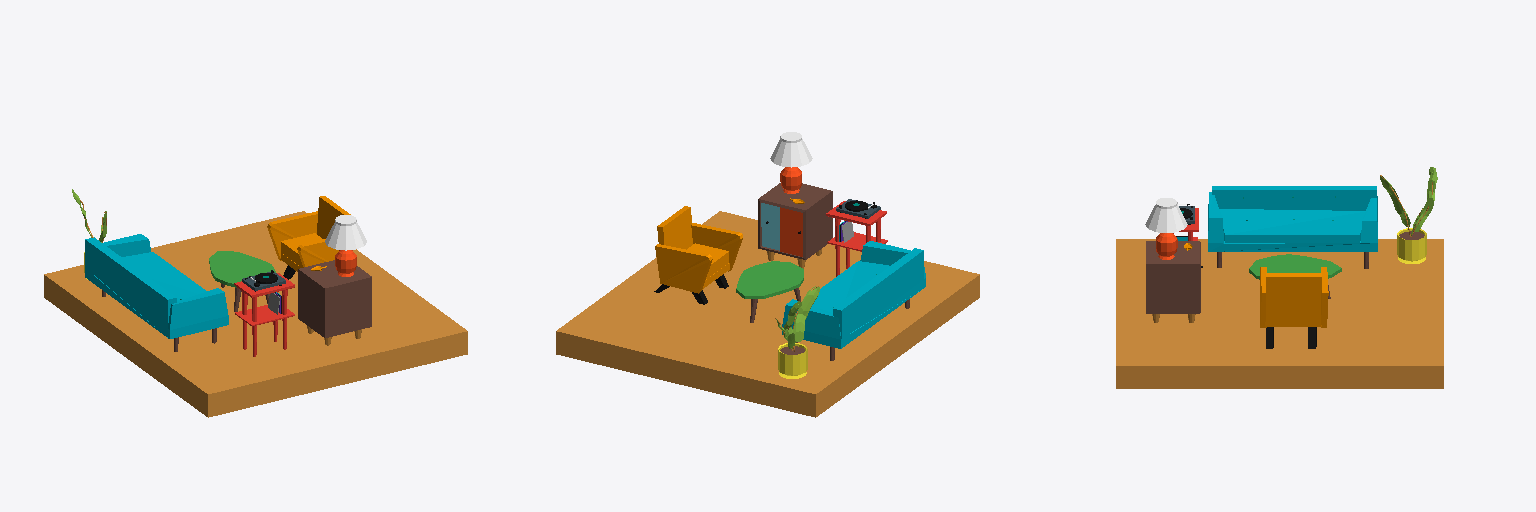
3 views of the same model, side by side, from view 1: azimuth 30°, elevation 25°; view 2: azimuth 150°, elevation 25°; view 3: azimuth 270°, elevation 25° (orthographic).
Visible parts, largest first — view 1: group[number redacted], group[number redacted], group[number redacted], group[number redacted], group[number redacted], group[number redacted], group[number redacted], group[number redacted], group[number redacted], group[number redacted]; view 2: group[number redacted], group[number redacted], group[number redacted], group[number redacted], group[number redacted], group[number redacted], group[number redacted], group[number redacted], group[number redacted], group[number redacted], group[number redacted]; view 3: group[number redacted], group[number redacted], group[number redacted], group[number redacted], group[number redacted], group[number redacted].
Part boxes in pixels (x1,y1,x2,y2): group[number redacted]: (44,211,467,417); group[number redacted]: (85,234,228,351); group[number redacted]: (298,215,371,345); group[number redacted]: (234,273,294,356); group[number redacted]: (209,251,275,287); group[number redacted]: (267,211,317,260); group[number redacted]: (297,239,338,266); group[number redacted]: (317,196,350,238); group[number redacted]: (242,270,285,291); group[number redacted]: (281,233,321,267); group[number redacted]: (556,211,979,417); group[number redacted]: (782,241,925,360); group[number redacted]: (758,132,832,268); group[number redacted]: (655,244,712,293); group[number redacted]: (775,286,819,378); group[number redacted]: (736,261,803,298); group[number redacted]: (826,201,887,276); group[number redacted]: (657,206,692,249); group[number redacted]: (691,223,742,271); group[number redacted]: (687,243,728,278); group[number redacted]: (836,199,880,218); group[number redacted]: (1116,239,1443,388); group[number redacted]: (1208,186,1377,268); group[number redacted]: (1145,198,1202,322); group[number redacted]: (1265,273,1321,326); group[number redacted]: (1380,167,1437,263); group[number redacted]: (1249,254,1341,279).
Size of the model in its own units: 4.92 by 2.53 by 5.38.